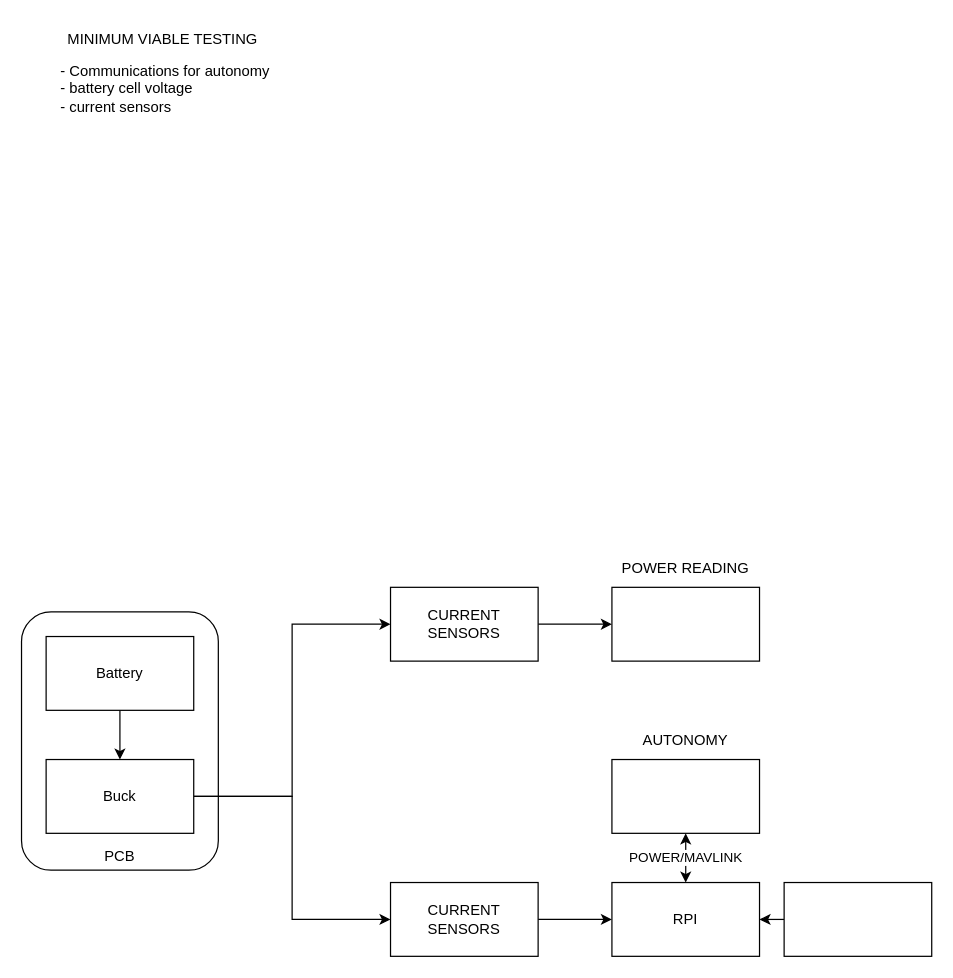
Image size: 953x978. Some labels were removed from this diagram. Each missing label, with the centre of its shape:
"ESP32" goes at point 685,623.
"FC" goes at point 685,795.
"Modem" goes at point 857,918.
